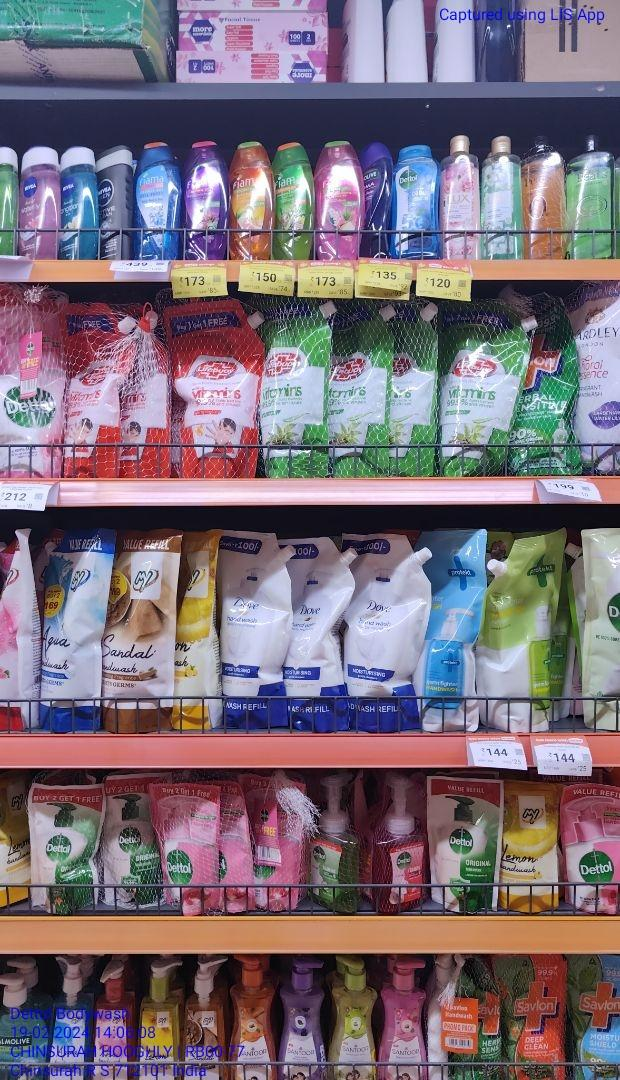Dettol_Bodywash_Cool: (394, 144, 440, 259)
Fiama_Shower_Gel_Lemongrass_and_Jojoba_250ML: (275, 143, 315, 258)
Fiama_Shower_Gel_Patchouli_and_Macadamia_250ML: (316, 140, 358, 261)
Fiama_Shower_Gel_Peach_and_Avocado_250ML: (229, 142, 274, 259)
Lux_Body_Wash_Skin_Detox_Freesia_Scent_and_Alove_Vera_245ML: (481, 136, 522, 258)
Nivea_Shower_Gel_Frangipani_and_Oil_250ML: (59, 147, 99, 257)
Nivea_Shower_Gel_Waterlily_and_Oil_250ML: (18, 147, 58, 259)
